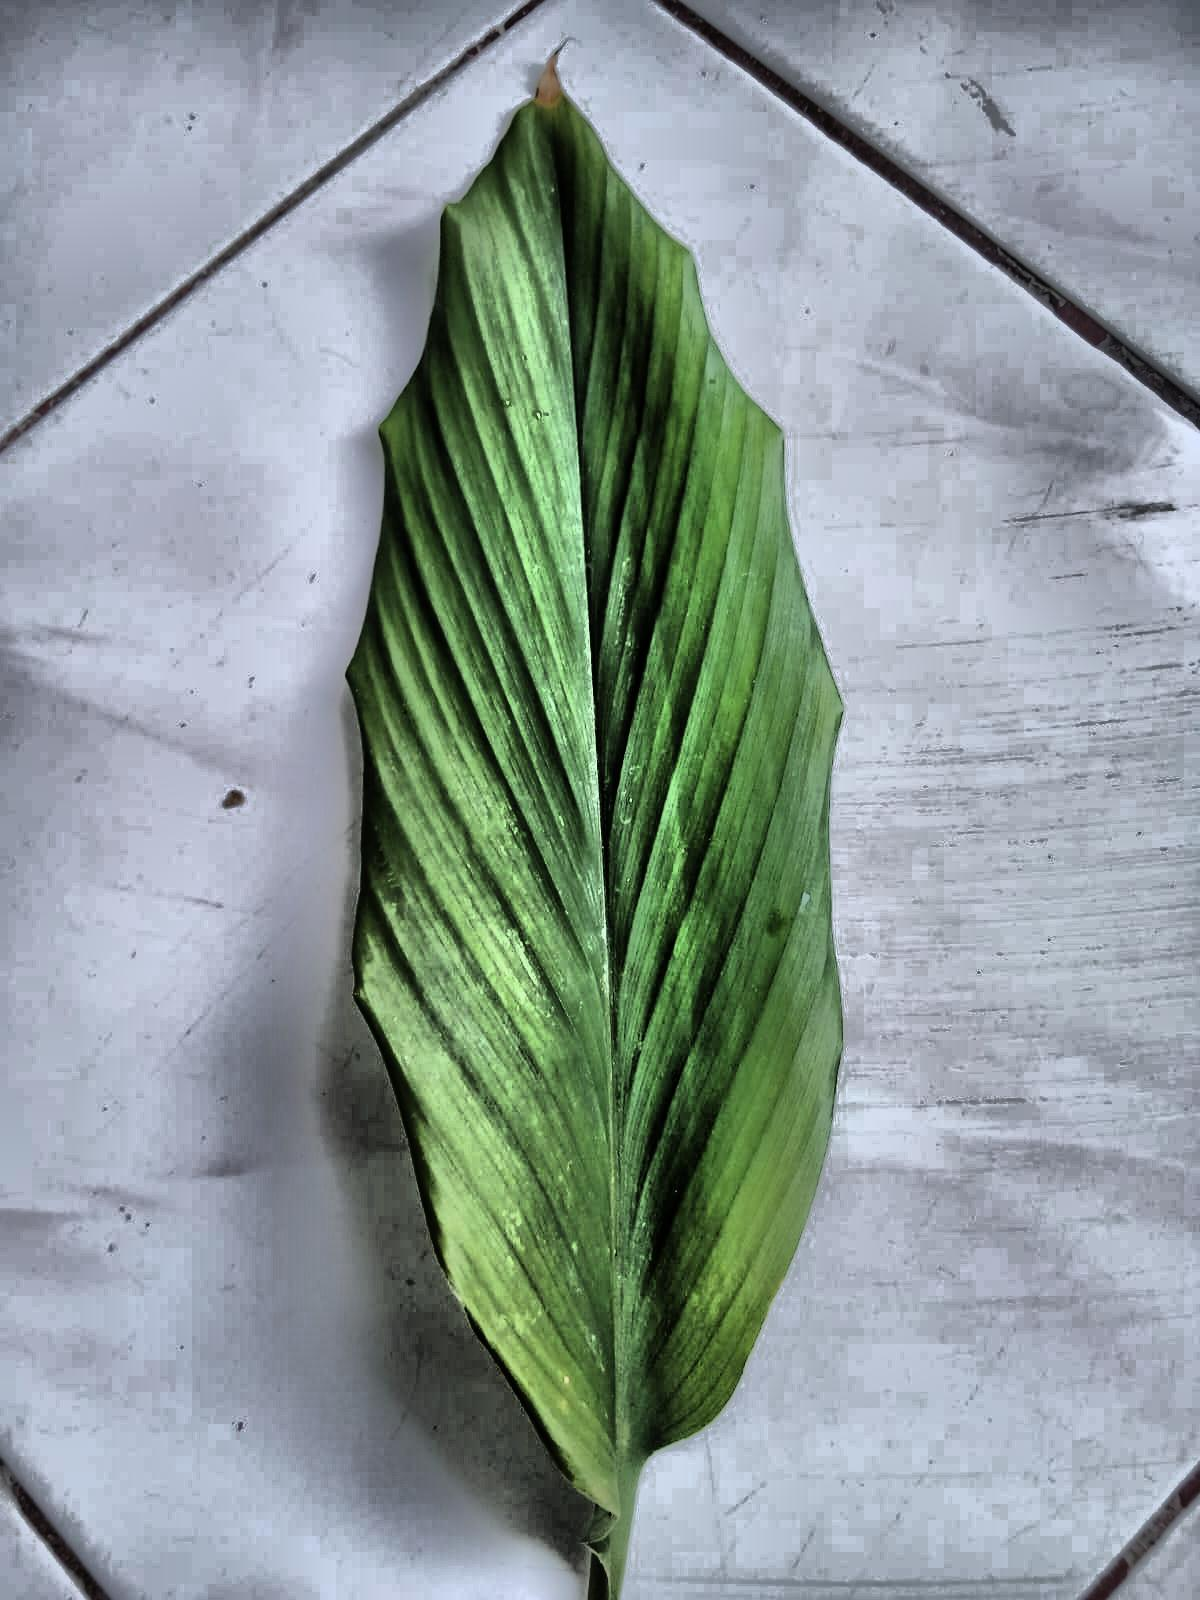daun kunyit: (348, 69, 842, 1599)
